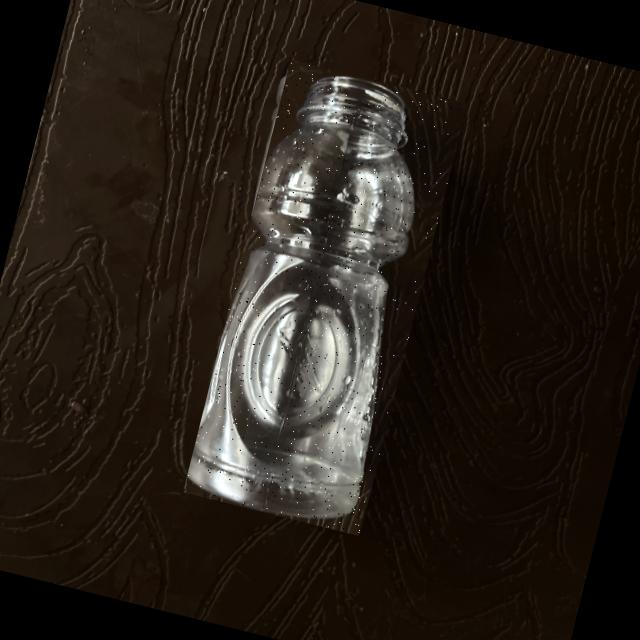PET_With_Liquid: (183, 58, 467, 535), (254, 103, 424, 335)
